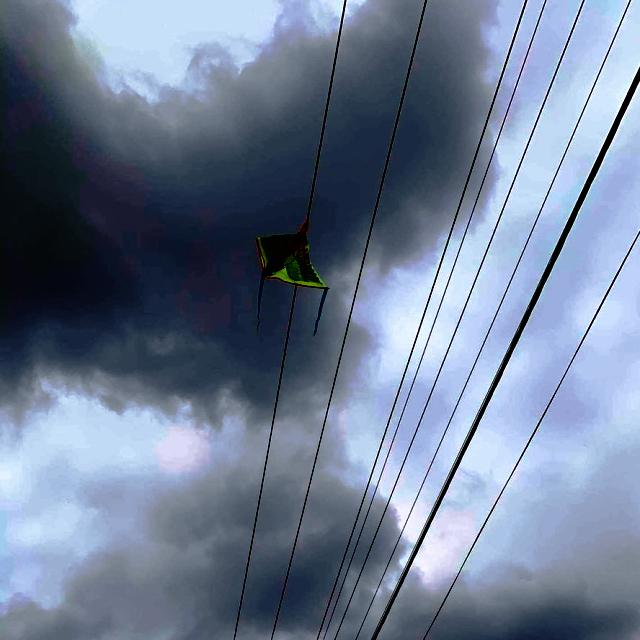obstruction: (253, 187, 343, 361)
wires: (308, 5, 639, 638), (270, 6, 437, 639), (223, 283, 308, 639), (304, 5, 351, 227)
